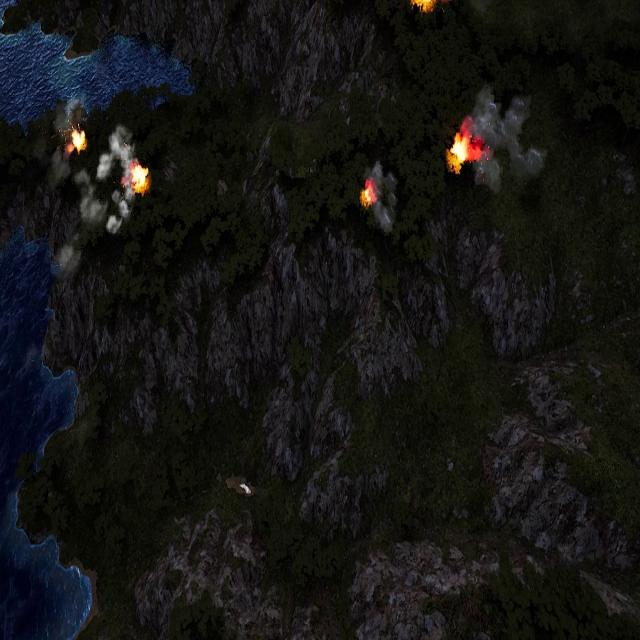fire: (448, 128, 473, 172), (129, 164, 149, 192), (69, 128, 87, 157), (360, 180, 376, 207), (410, 0, 435, 13)
smoke: (40, 114, 134, 292), (467, 89, 542, 193), (363, 160, 401, 233)
